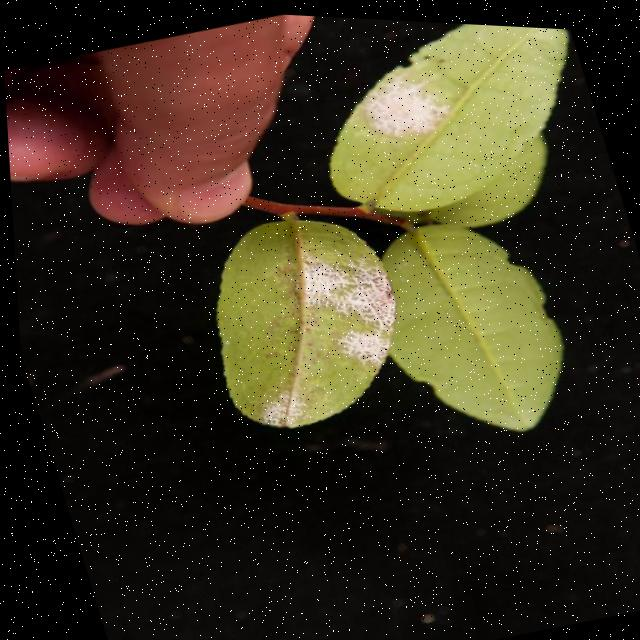Tea exobasidium blight: (261, 213, 416, 372), (359, 61, 455, 155), (324, 321, 401, 379), (246, 374, 316, 430)
